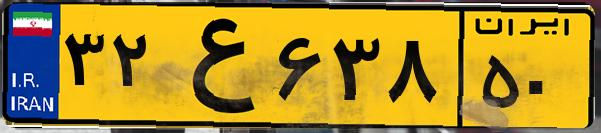0: (525, 38, 570, 115)
2: (110, 28, 158, 98)
3: (330, 28, 385, 110), (57, 26, 110, 100)
5: (475, 38, 525, 113)
6: (270, 28, 330, 110)
8: (385, 28, 445, 110)
ع: (158, 12, 270, 120)
